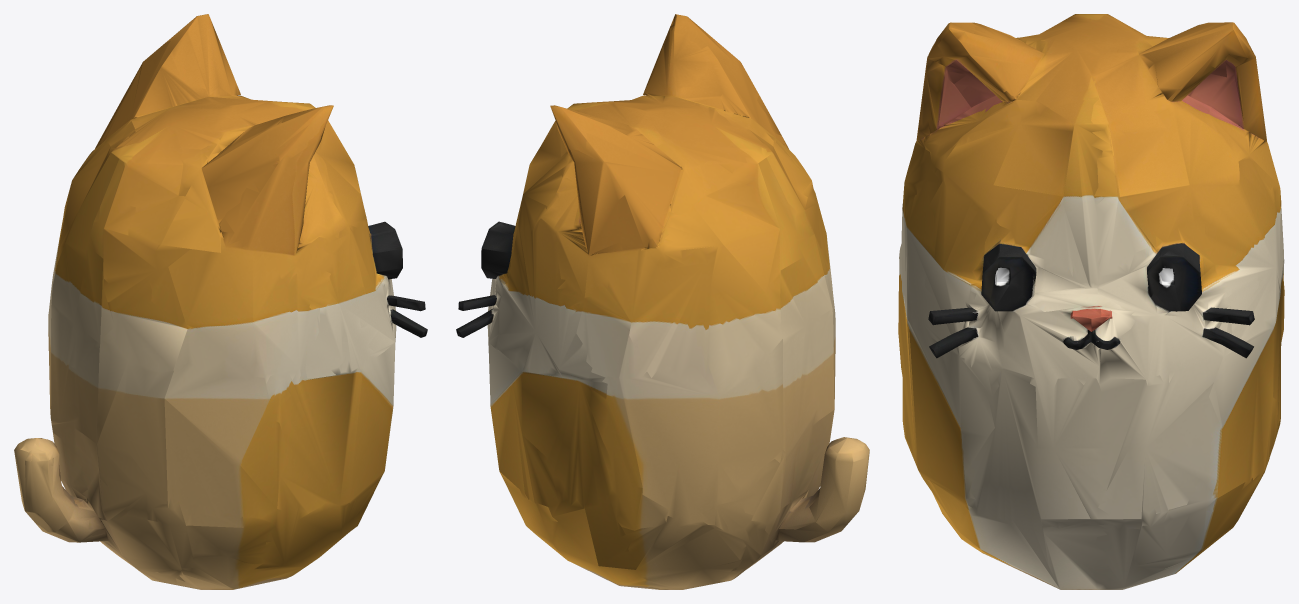
Rendered from cat_final.fbx.
3 views of the same model, side by side, from view 1: azimuth 30°, elevation 25°; view 2: azimuth 150°, elevation 25°; view 3: azimuth 270°, elevation 25° (orthographic). The views are drawn at different scales.
Visible parts, largest first — view 1: tripo_node_5fb6d897; view 2: tripo_node_5fb6d897; view 3: tripo_node_5fb6d897.
Boxes of the visible parts, x1,y1,x2,y2 form: tripo_node_5fb6d897: [14, 14, 427, 589]; tripo_node_5fb6d897: [456, 14, 869, 589]; tripo_node_5fb6d897: [898, 14, 1284, 589].
Size of the model in its own units: 78.39 by 97.82 by 62.91.
Materials: 1 (1 with a texture image).
